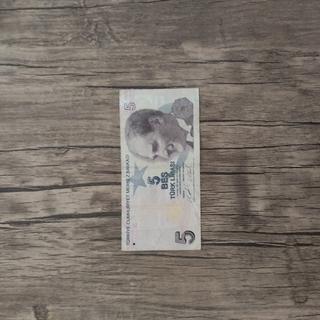5TLFront: (118, 87, 201, 250)
